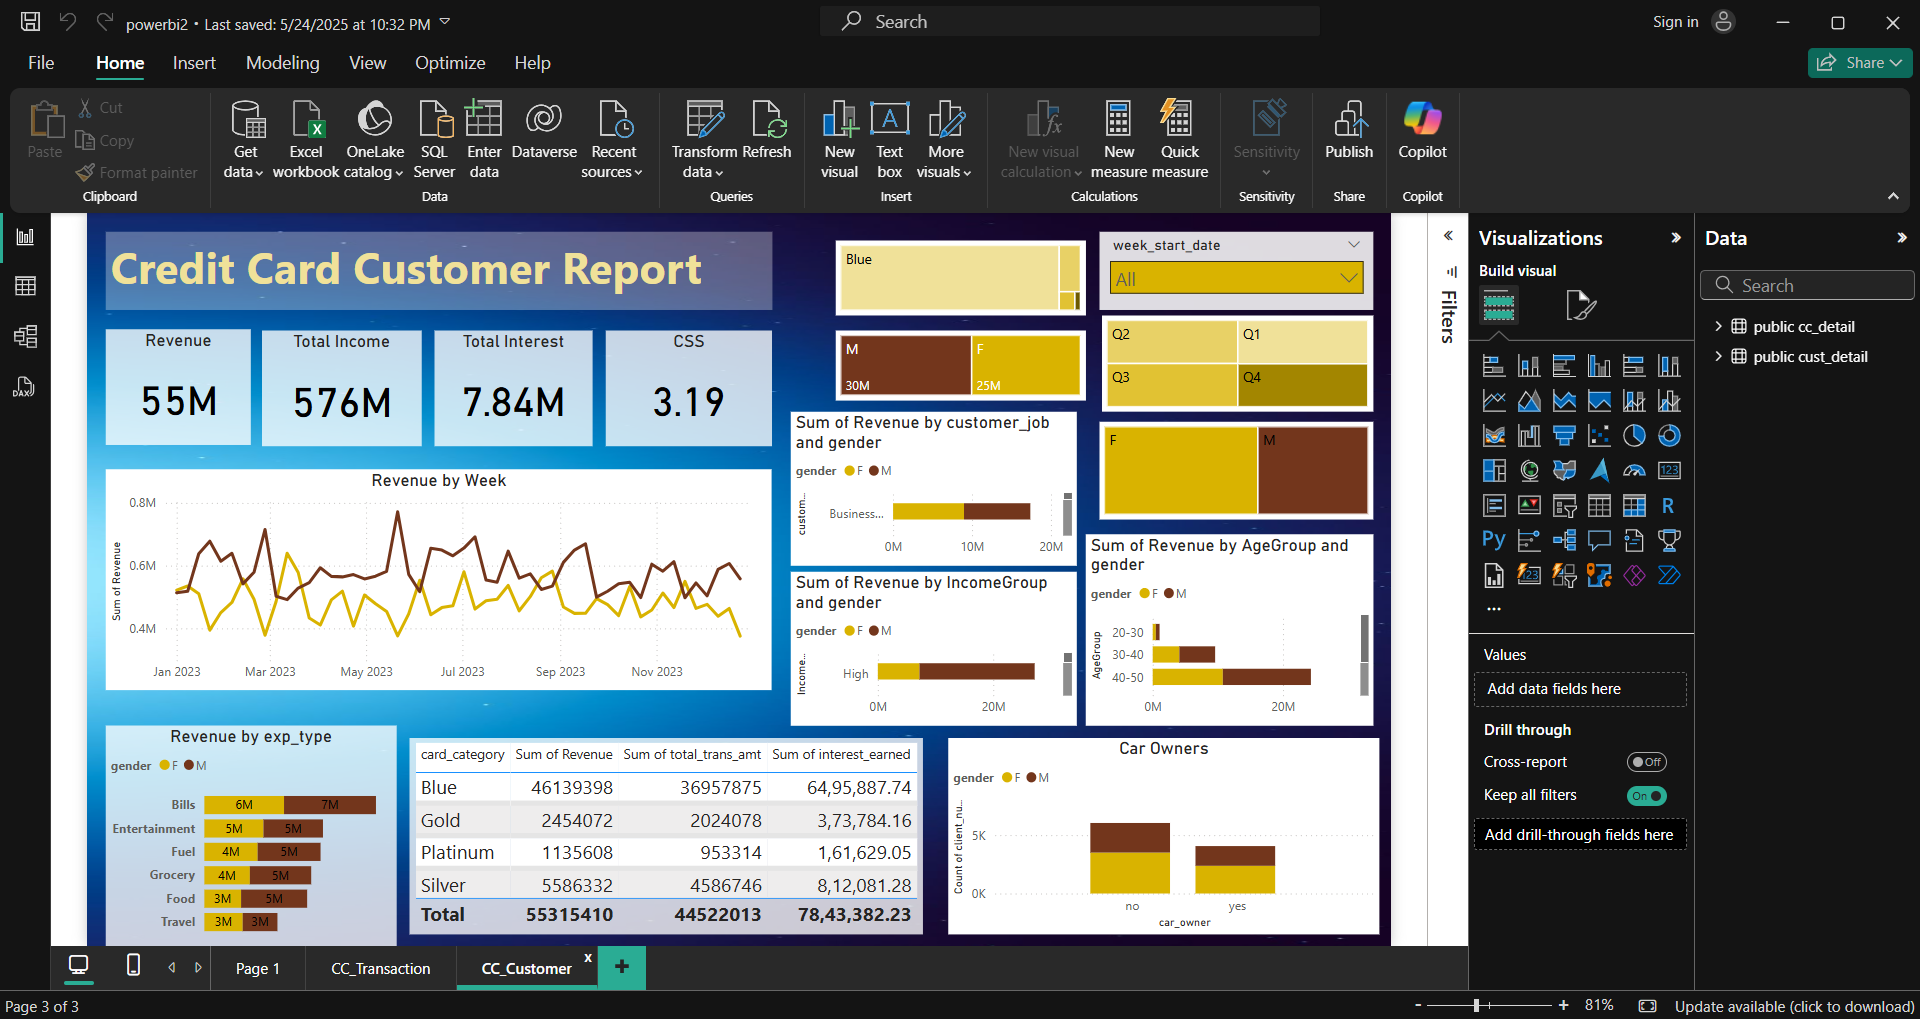

The page's visual inventory and layout, read from the dashboard file:
{"tool":"powerbi","page":{"name":"CC_Customer","canvas":[1280,720],"ordinal":2},"visuals":[{"type":"textbox","box":[17.8,17.8,654.5,76.8],"z":0},{"type":"barChart","title":" Revenue by exp_type","fields":{"Category":["public cc_detail.exp_type"],"Y":["Sum(public cc_detail.Revenue)"],"Series":["public cust_detail.gender"]},"box":[17.8,503.2,285.4,216.8],"z":1000},{"type":"tableEx","fields":{"Values":["public cc_detail.card_category","Sum(public cc_detail.Revenue)","Sum(public cc_detail.total_trans_amt)","Sum(public cc_detail.interest_earned)"]},"box":[316.6,515.3,504.3,192.6],"z":2000},{"type":"card","title":"Revenue","fields":{"Values":["Sum(public cc_detail.Revenue)"]},"box":[17.8,113.9,142.7,113.9],"z":3000},{"type":"card","title":"Total Income","fields":{"Values":["Sum(public cust_detail.income)"]},"box":[171.5,115.3,156.4,113.9],"z":4000},{"type":"card","title":"Total Interest","fields":{"Values":["Sum(public cc_detail.interest_earned)"]},"box":[341.7,115.3,155.1,113.9],"z":5000},{"type":"card","title":"CSS","fields":{"Values":["Avg(public cust_detail.cust_satisfaction_score)"]},"box":[509.1,115.3,163.3,113.9],"z":6000},{"type":"slicer","fields":{"Values":["public cc_detail.week_start_date"]},"box":[993.5,17.8,269,76.8],"z":7000},{"type":"treemap","fields":{"Group":["public cc_detail.qtr"],"Values":["CountNonNull(public cc_detail.client_num)"]},"box":[996.2,100.2,266.2,94.7],"z":8000},{"type":"treemap","fields":{"Group":["public cust_detail.gender"],"Values":["CountNonNull(public cust_detail.client_num)"]},"box":[993.5,204.5,269,96.1],"z":9000},{"type":"treemap","fields":{"Group":["public cc_detail.card_category"],"Values":["CountNonNull(public cust_detail.client_num)"]},"box":[735,27,245.4,73.6],"z":10000},{"type":"lineChart","title":"Revenue by  Week","fields":{"Y":["Sum(public cc_detail.Revenue)"],"Series":["public cust_detail.gender"],"Category":["public cc_detail.week_start_date.Variation.Date Hierarchy.Year","public cc_detail.week_start_date.Variation.Date Hierarchy.Month","public cc_detail.week_start_date.Variation.Date Hierarchy.Day"]},"box":[18.4,251.5,654,217.2],"z":11000},{"type":"treemap","fields":{"Group":["public cust_detail.gender"],"Values":["Sum(public cc_detail.Revenue)"]},"box":[735,115.3,245.4,68.7],"z":11001},{"type":"columnChart","title":"Car Owners","fields":{"Category":["public cust_detail.car_owner"],"Y":["CountNonNull(public cust_detail.client_num)"],"Series":["public cust_detail.gender"]},"box":[845.4,515.3,423.3,192.6],"z":11002},{"type":"barChart","fields":{"Category":["public cust_detail.IncomeGroup"],"Y":["Sum(public cc_detail.Revenue)"],"Series":["public cust_detail.gender"]},"box":[690.8,352.1,281,150.9],"z":11003},{"type":"barChart","fields":{"Category":["public cust_detail.AgeGroup","public cust_detail.IncomeGroup"],"Y":["Sum(public cc_detail.Revenue)"],"Series":["public cust_detail.gender"]},"box":[980.4,315.3,282.2,187.7],"z":11004},{"type":"barChart","fields":{"Category":["public cust_detail.customer_job","public cust_detail.IncomeGroup"],"Y":["Sum(public cc_detail.Revenue)"],"Series":["public cust_detail.gender"]},"box":[690.8,195.1,281,150.9],"z":11005}]}

Visuals, with their boxes on the page's 1280x720 design canvas (x1, y1, x2, y2). These are canvas units, not pixel positions in the 1920x1019 screenshot, which may show the page scaled, cropped or inside an application window:
textbox: (left=18, top=18, right=672, bottom=95)
" Revenue by exp_type" barChart: (left=18, top=503, right=303, bottom=720)
tableEx - public cc_detail.card_category x Sum(public cc_detail.Revenue): (left=317, top=515, right=821, bottom=708)
"Revenue" card: (left=18, top=114, right=160, bottom=228)
"Total Income" card: (left=172, top=115, right=328, bottom=229)
"Total Interest" card: (left=342, top=115, right=497, bottom=229)
"CSS" card: (left=509, top=115, right=672, bottom=229)
slicer - public cc_detail.week_start_date: (left=994, top=18, right=1262, bottom=95)
treemap - public cc_detail.qtr x CountNonNull(public cc_detail.client_num): (left=996, top=100, right=1262, bottom=195)
treemap - public cust_detail.gender x CountNonNull(public cust_detail.client_num): (left=994, top=204, right=1262, bottom=301)
treemap - public cc_detail.card_category x CountNonNull(public cust_detail.client_num): (left=735, top=27, right=980, bottom=101)
"Revenue by  Week" lineChart: (left=18, top=252, right=672, bottom=469)
treemap - public cust_detail.gender x Sum(public cc_detail.Revenue): (left=735, top=115, right=980, bottom=184)
"Car Owners" columnChart: (left=845, top=515, right=1269, bottom=708)
barChart - public cust_detail.IncomeGroup x Sum(public cc_detail.Revenue): (left=691, top=352, right=972, bottom=503)
barChart - public cust_detail.AgeGroup x public cust_detail.IncomeGroup: (left=980, top=315, right=1263, bottom=503)
barChart - public cust_detail.customer_job x public cust_detail.IncomeGroup: (left=691, top=195, right=972, bottom=346)
